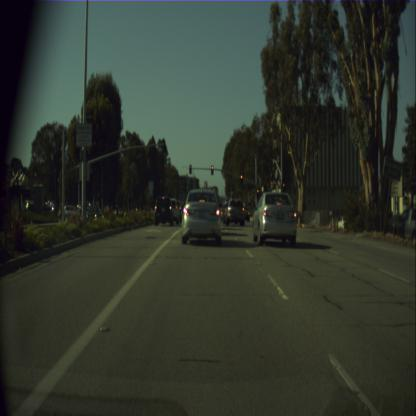Red: (256, 187, 259, 197), (282, 182, 285, 192), (240, 173, 242, 183), (189, 164, 191, 173), (211, 165, 213, 174)
